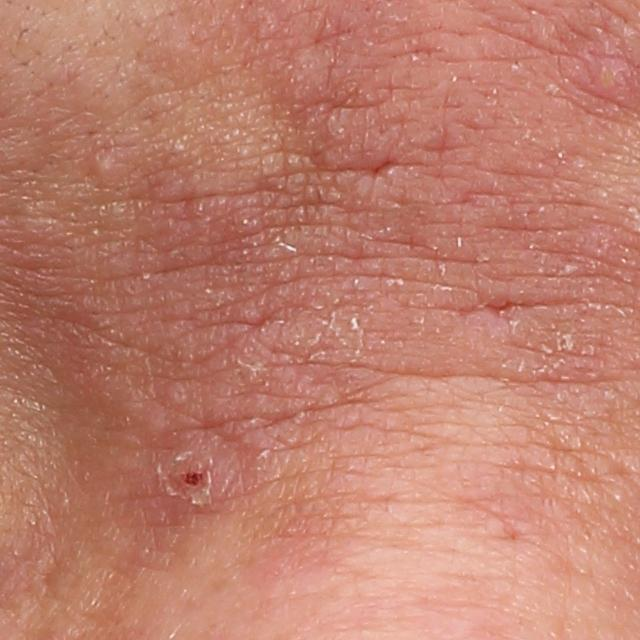comedo: (89, 147, 118, 185)
papule: (168, 436, 234, 512)
